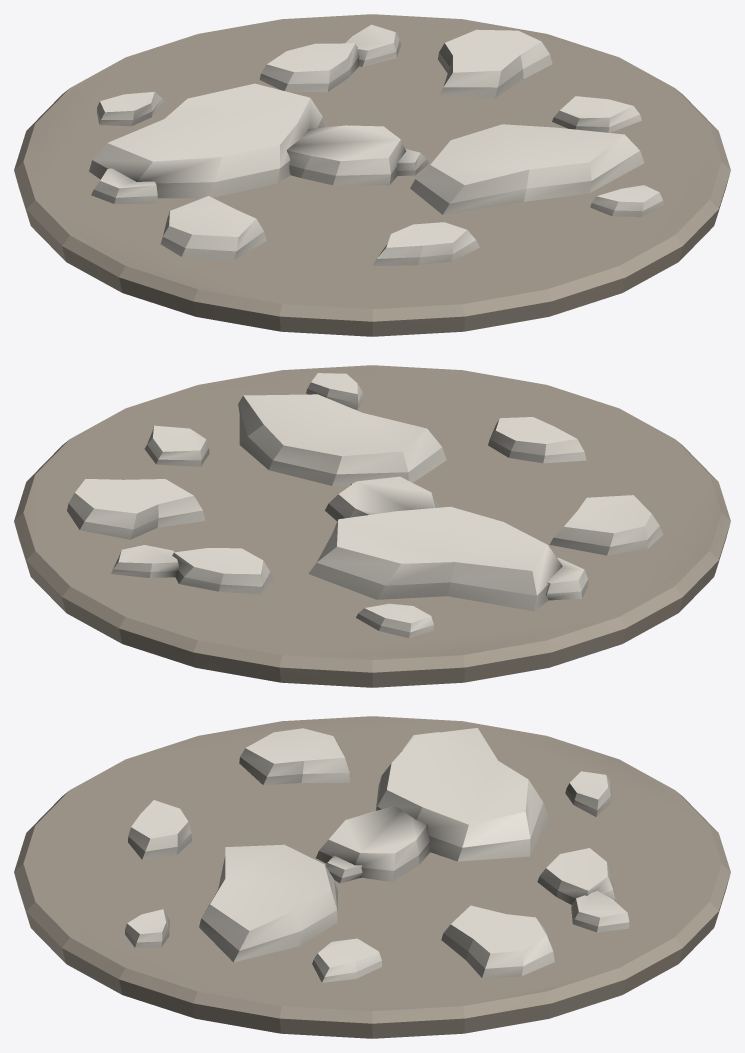
The model's file is terrace_map.glb.
The picture shows the model from 3 angles, top to bottom: view 1: azimuth 30°, elevation 25°; view 2: azimuth 150°, elevation 25°; view 3: azimuth 270°, elevation 25°; orthographic projection.
Visible parts, largest first — view 1: terrace_map; view 2: terrace_map; view 3: terrace_map.
Part boxes in pixels (x1,y1,x2,y2): terrace_map: [14, 14, 730, 336]; terrace_map: [14, 365, 730, 687]; terrace_map: [14, 716, 730, 1038].
Bounding box in the file's own units: 30.4 × 2.7 × 30.4.
